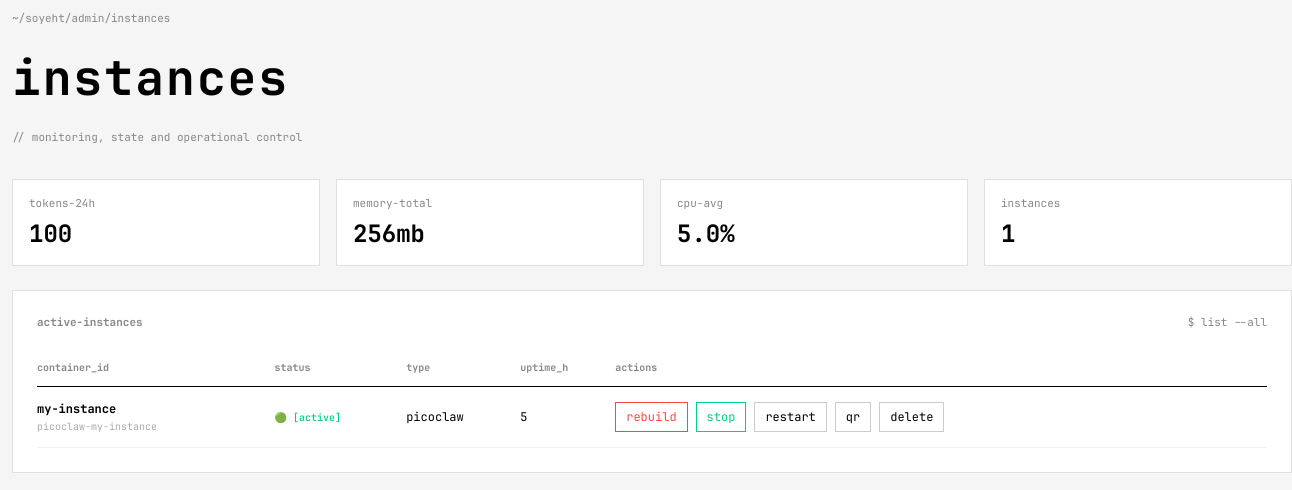
InstancesPage › disables all action buttons while an action is pending
The width and height of the screenshot is (1292, 490).
Expected: the text "picoclaw-my-instance" is shown, x1=37 y1=420 x2=157 y2=433
Click the button "restart" at (791, 417), box x1=754 y1=402 x2=827 y2=432
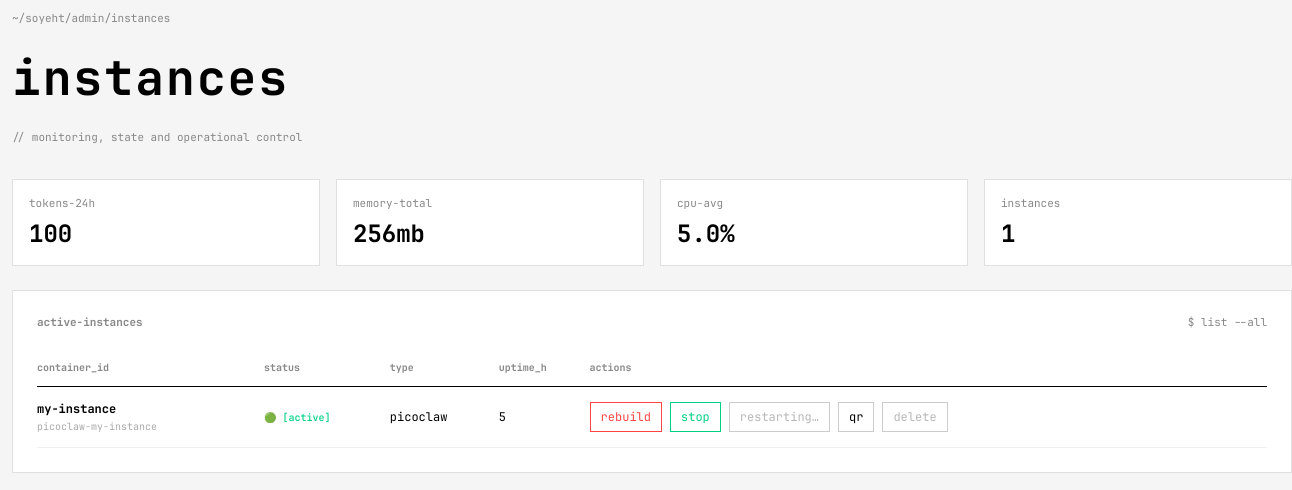
Result: the button "restarting…" is disabled at x1=729 y1=402 x2=830 y2=432
Result: the button "stop" is disabled at x1=670 y1=402 x2=721 y2=432
Result: the button "delete" is disabled at x1=882 y1=402 x2=948 y2=432
